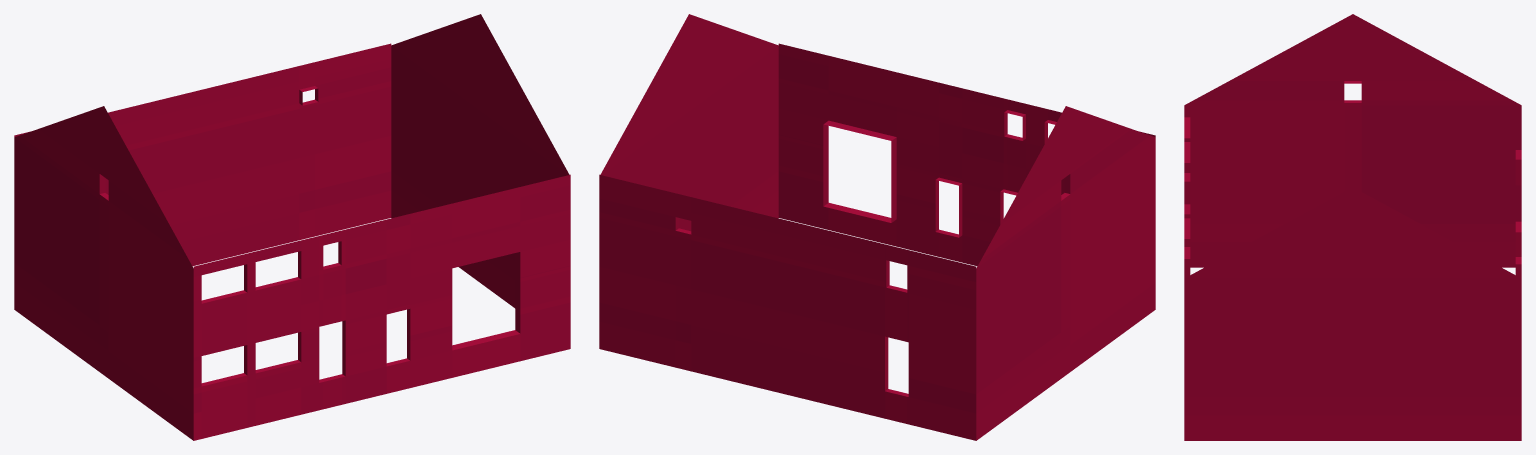
The model's file is SM_Bld_077_Masonry.glb.
3 renders of one model, left to right at view 1: azimuth 30°, elevation 25°; view 2: azimuth 150°, elevation 25°; view 3: azimuth 270°, elevation 25°, orthographic. The views are drawn at different scales.
Visible parts, largest first — view 1: SM_Bld_077_Masonry; view 2: SM_Bld_077_Masonry; view 3: SM_Bld_077_Masonry.
Part boxes in pixels (x1,y1,x2,y2): SM_Bld_077_Masonry: (14, 14, 570, 440); SM_Bld_077_Masonry: (599, 14, 1155, 440); SM_Bld_077_Masonry: (1184, 14, 1521, 440).
Bounding box in the file's own units: 14.41 × 9.84 × 11.87.
